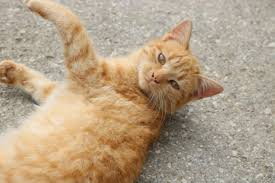cat: (1, 2, 228, 178)
